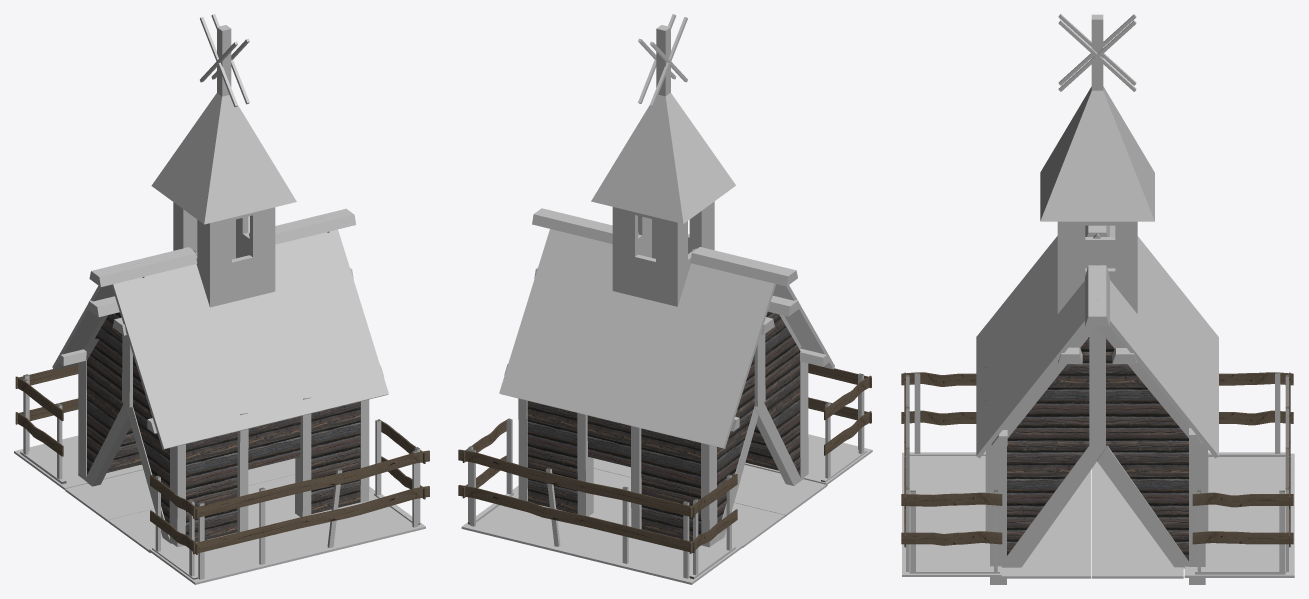
The model's file is houseSmall.fbx.
3 renders of one model, left to right at view 1: azimuth 30°, elevation 25°; view 2: azimuth 150°, elevation 25°; view 3: azimuth 270°, elevation 25°, orthographic. The views are drawn at different scales.
Visible parts, largest first — view 1: polySurface1404, polySurface1395, polySurface1403, polySurface1434, polySurface1463, polySurface1428, polySurface1427, polySurface1464, polySurface1405, polySurface1422, polySurface1483, polySurface1462 (+13 smaller); view 2: polySurface1458, polySurface1395, polySurface1403, polySurface1422, polySurface1464, polySurface1415, polySurface1414, polySurface1463, polySurface1405, polySurface1434, polySurface1483, polySurface1460 (+13 smaller); view 3: polySurface1403, polySurface1395, polySurface1458, polySurface1404, polySurface1422, polySurface1434, polySurface1463, polySurface1464, polySurface1459, polySurface1461, polySurface1401, polySurface1397 (+13 smaller).
Part boxes in pixels (x1,y1,x2,y2): polySurface1404: (111, 229, 388, 449); polySurface1395: (151, 25, 296, 307); polySurface1403: (87, 312, 360, 542); polySurface1434: (149, 494, 425, 584); polySurface1463: (65, 458, 295, 521); polySurface1428: (193, 450, 429, 518); polySurface1427: (193, 486, 429, 554); polySurface1464: (108, 474, 375, 552); polySurface1405: (89, 247, 197, 286); polySurface1422: (14, 435, 143, 489); polySurface1483: (249, 208, 355, 244); polySurface1462: (84, 403, 130, 486); polySurface1458: (499, 229, 775, 448); polySurface1395: (591, 25, 735, 306); polySurface1403: (527, 311, 800, 541); polySurface1422: (461, 490, 742, 584); polySurface1464: (593, 458, 827, 516); polySurface1415: (458, 449, 694, 517); polySurface1414: (458, 485, 694, 552); polySurface1463: (513, 468, 784, 547); polySurface1405: (690, 247, 797, 286); polySurface1434: (745, 434, 872, 484); polySurface1483: (532, 208, 638, 243); polySurface1460: (754, 402, 801, 485); polySurface1403: (1007, 337, 1188, 560); polySurface1395: (1040, 14, 1154, 313); polySurface1458: (1109, 225, 1218, 458); polySurface1404: (976, 236, 1085, 458); polySurface1422: (1184, 453, 1294, 577); polySurface1434: (902, 452, 1001, 576); polySurface1463: (1092, 461, 1183, 578); polySurface1464: (999, 470, 1091, 578); polySurface1459: (1007, 445, 1106, 567); polySurface1461: (1097, 445, 1188, 568); polySurface1401: (1089, 327, 1105, 450); polySurface1397: (990, 444, 1006, 584).
Bounding box in the file's own units: 4.88 × 8.72 × 6.01.
